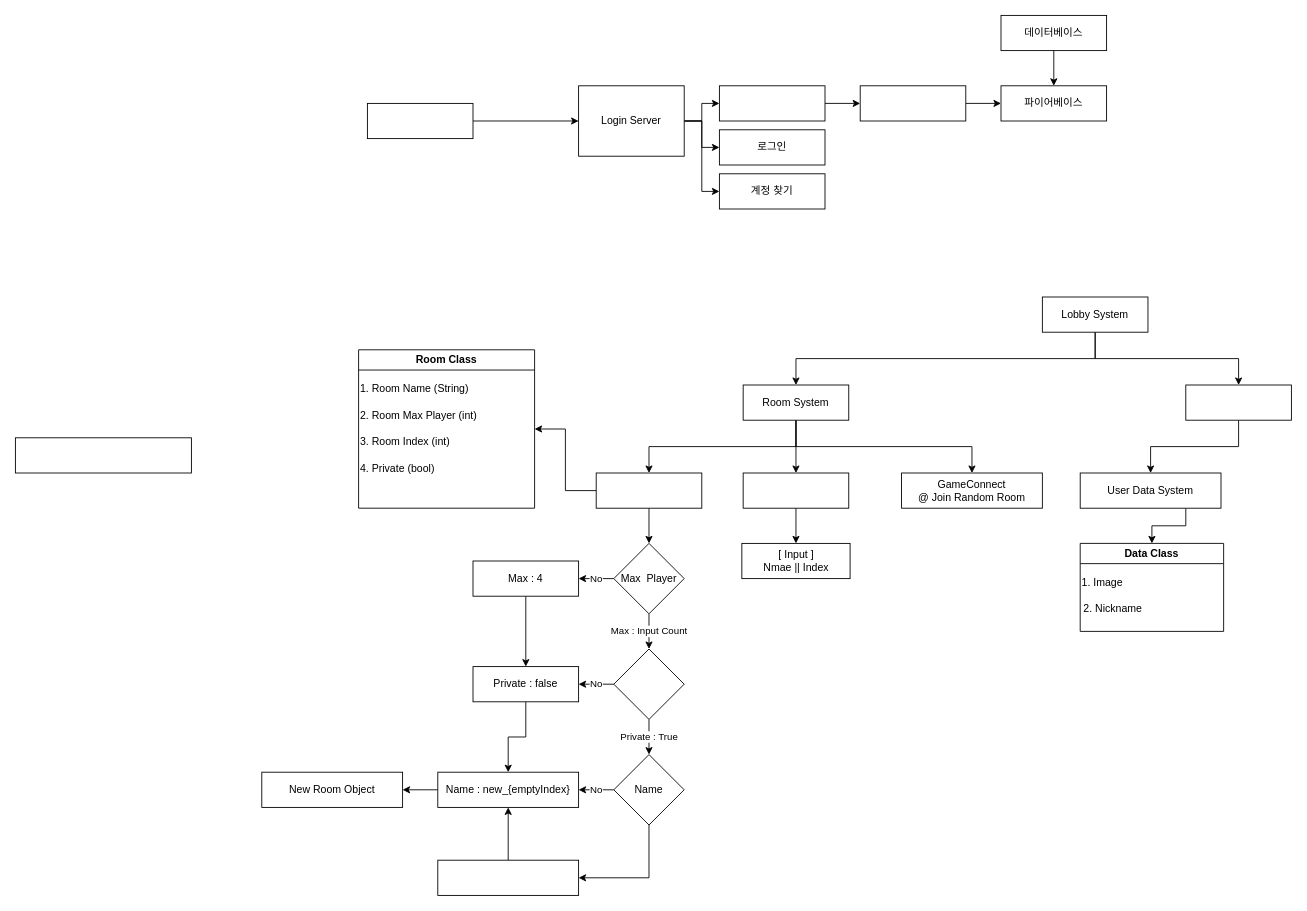
This 1307x911 diagram has some shape labels left out. The shapes that lost their labels are listed below. From the top down, each one's centre as x and y in pixels, then its label:
pixel 420 121: Orger vs Troll
pixel 772 103: 회원가입
pixel 912 103: 구글
pixel 1238 402: User Profile
pixel 103 455: Room Management System
pixel 648 490: GameConnect @ Create Room
pixel 795 490: GameConnect @ JoinRoom
pixel 648 683: Private
pixel 508 877: Index @ Get Empty Index
